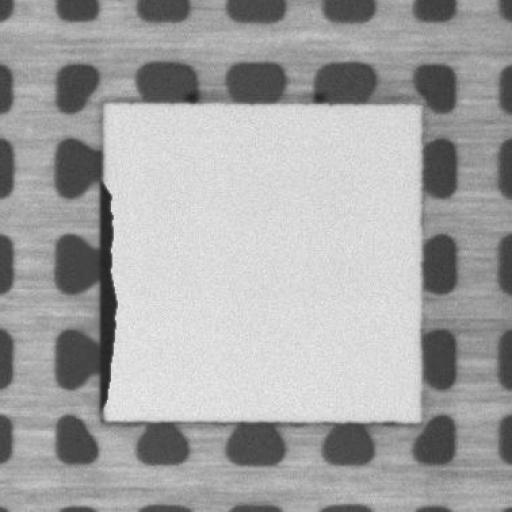DIE_BROKEN: (94, 182, 119, 413)
